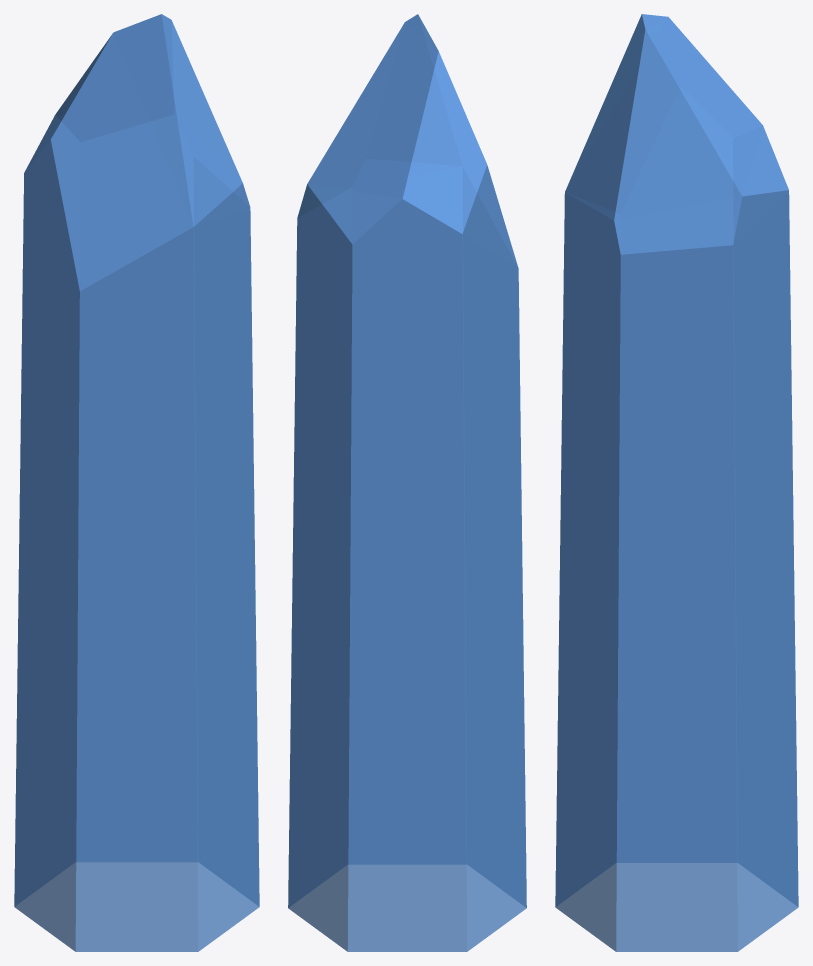
File: Crystal_m_05 2.fbx
The picture shows the model from 3 angles, left to right: view 1: azimuth 30°, elevation 25°; view 2: azimuth 150°, elevation 25°; view 3: azimuth 270°, elevation 25°; orthographic projection. The views are drawn at different scales.
Visible parts, largest first — view 1: Crystal_m_05; view 2: Crystal_m_05; view 3: Crystal_m_05.
Boxes of the visible parts, x1=… form: Crystal_m_05: x1=14, y1=14, x2=259, y2=951; Crystal_m_05: x1=288, y1=14, x2=526, y2=951; Crystal_m_05: x1=555, y1=14, x2=798, y2=951.
Bounding box in the file's own units: 36.41 × 171 × 42.04.
